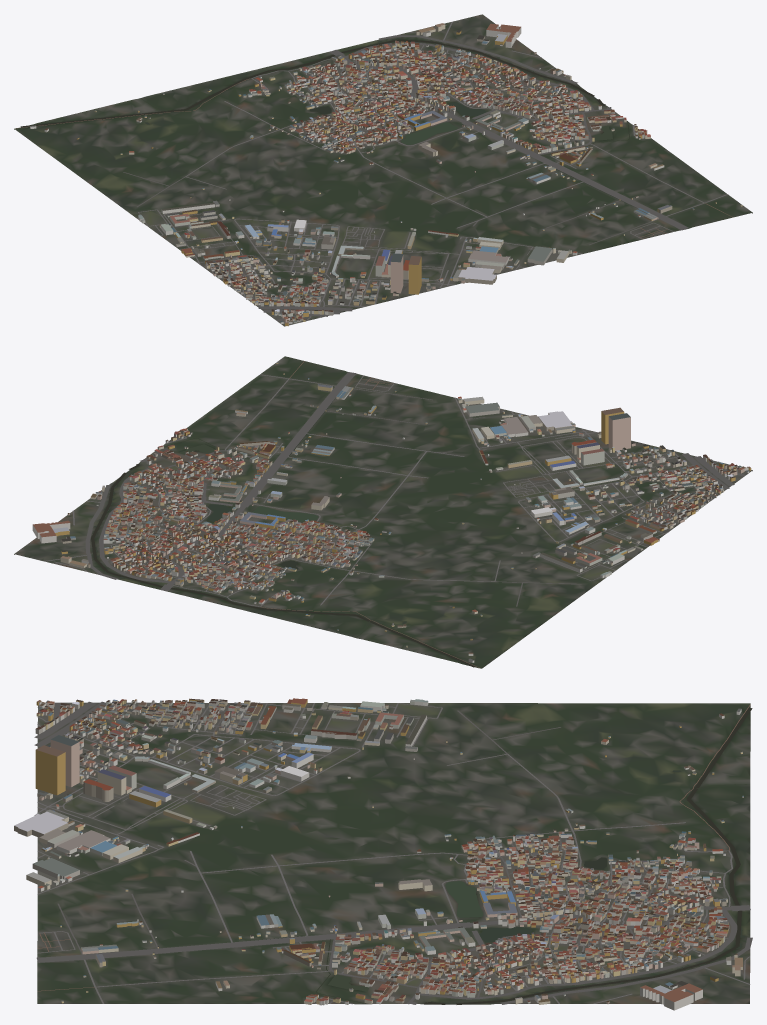
3 renders of one model, top to bottom at view 1: azimuth 30°, elevation 25°; view 2: azimuth 150°, elevation 25°; view 3: azimuth 270°, elevation 25°, orthographic. The views are drawn at different scales.
Parts seen in each view (by area): view 1: ground, buildings, roads, water; view 2: ground, buildings, roads, water; view 3: ground, buildings, roads, water.
Boxes of the visible parts, <box> form: ground: <box>14,14,752,326</box>; buildings: <box>30,23,742,326</box>; roads: <box>16,21,732,324</box>; water: <box>20,38,686,228</box>; ground: <box>14,356,752,668</box>; buildings: <box>32,362,751,662</box>; roads: <box>44,361,745,667</box>; water: <box>91,398,475,667</box>; ground: <box>37,702,750,1004</box>; buildings: <box>14,698,743,1010</box>; roads: <box>34,701,752,1004</box>; water: <box>37,708,752,1004</box>.
Size of the model in its own units: 1438 by 94.08 by 1454.
